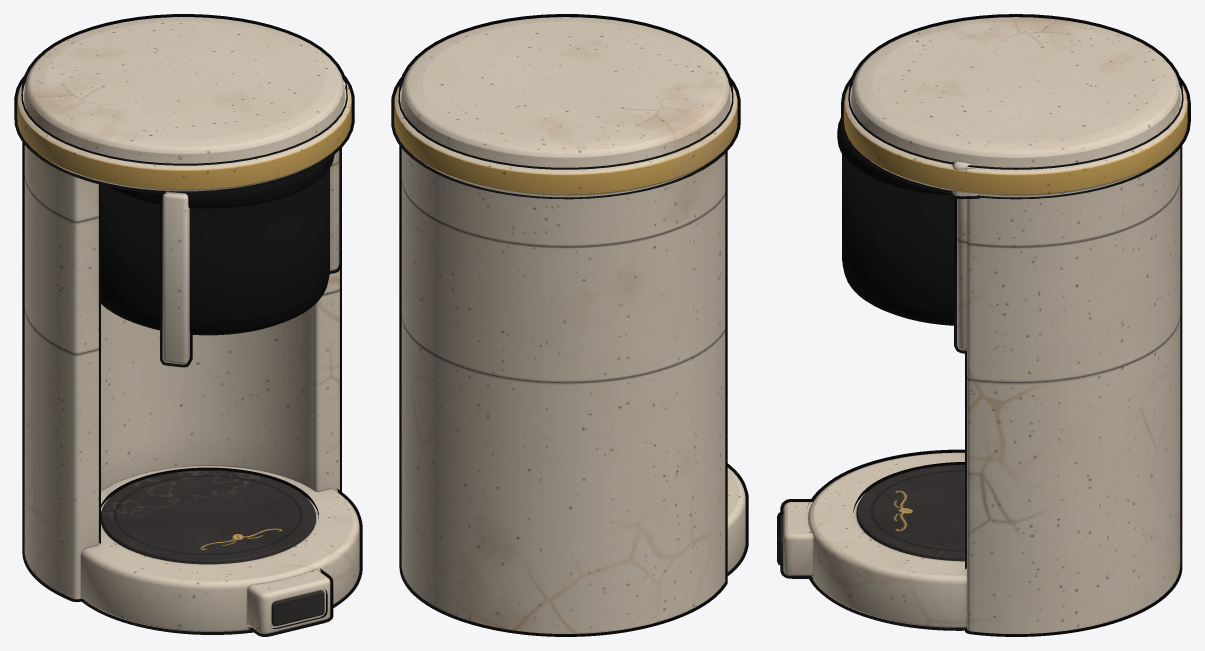
Rendered from CoffeeMachine_Closed.fbx.
The picture shows the model from 3 angles, left to right: view 1: azimuth 30°, elevation 25°; view 2: azimuth 150°, elevation 25°; view 3: azimuth 270°, elevation 25°; orthographic projection. The views are drawn at different scales.
Parts seen in each view (by area): view 1: CoffeeMachine_Closed; view 2: CoffeeMachine_Closed; view 3: CoffeeMachine_Closed.
Boxes of the visible parts, left/top/right/bottom form: CoffeeMachine_Closed: left=14, top=14, right=362, bottom=636; CoffeeMachine_Closed: left=391, top=14, right=748, bottom=636; CoffeeMachine_Closed: left=777, top=14, right=1190, bottom=636.
Size of the model in its own units: 0.215 by 0.3326 by 0.2543.
Materials: 1 (1 with a texture image).
